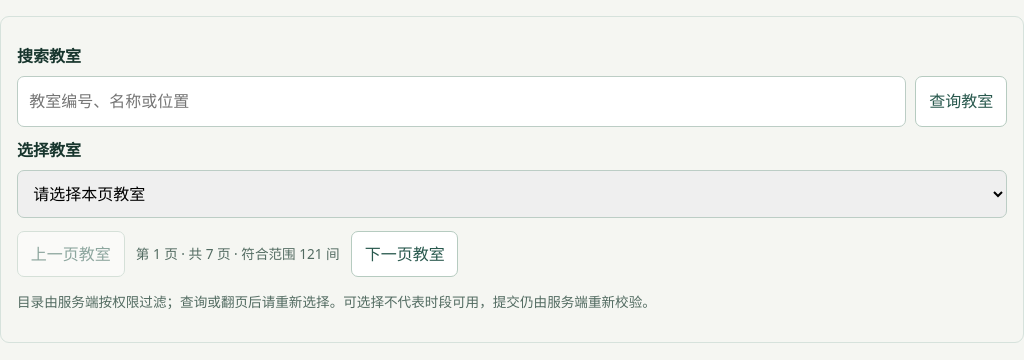
Test: paged authorized room picker › shows an explicit retryable error and never retains a prior selection
Select "SYN-ROOM · 合成教室 · 示例楼" in the dropdown with id "m2-room": [512, 194] box x1=17 y1=170 x2=1007 y2=218
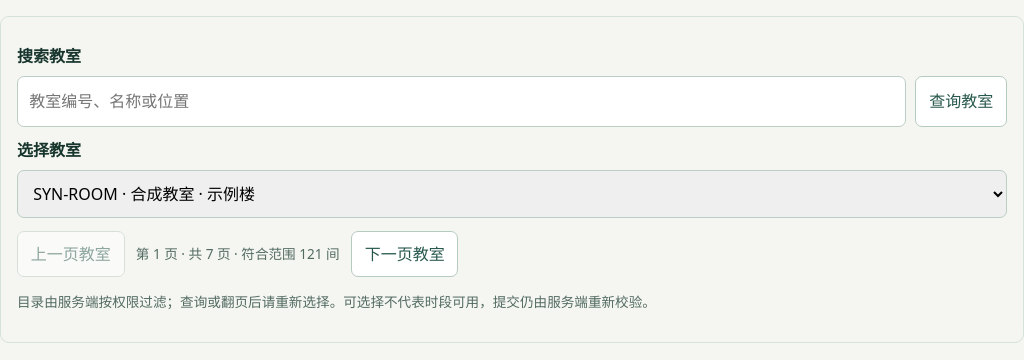
Click the button "查询教室": [961, 102] box x1=915 y1=76 x2=1007 y2=127
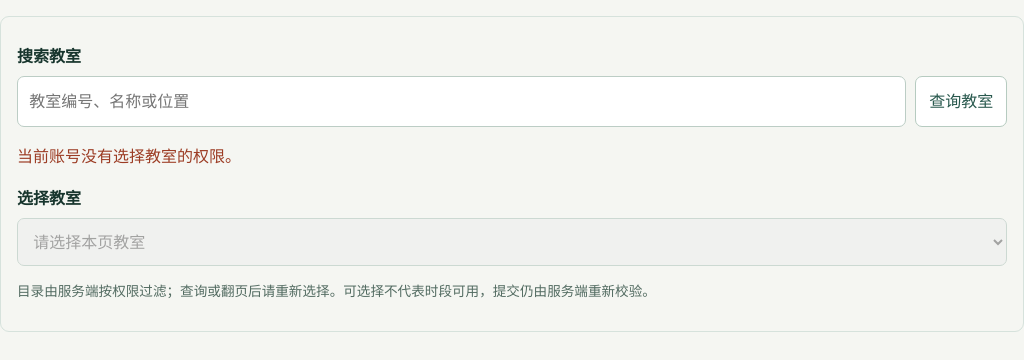
Check: the message "当前账号没有选择教室的权限。" is shown, box x1=17 y1=145 x2=241 y2=167
Check: the dropdown with id "m2-room" is disabled, box x1=17 y1=218 x2=1007 y2=266
